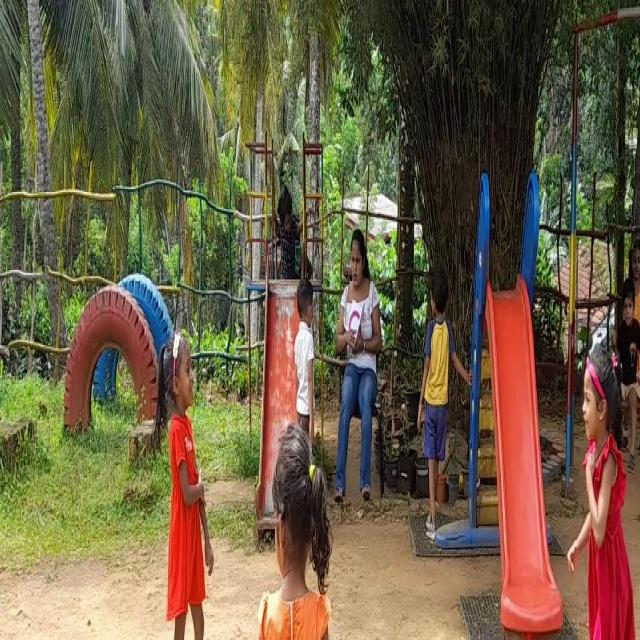adult: (334, 228, 386, 506)
child: (236, 427, 358, 640), (146, 324, 224, 640), (563, 348, 640, 640), (413, 278, 452, 548), (289, 272, 319, 424), (620, 243, 640, 458)
